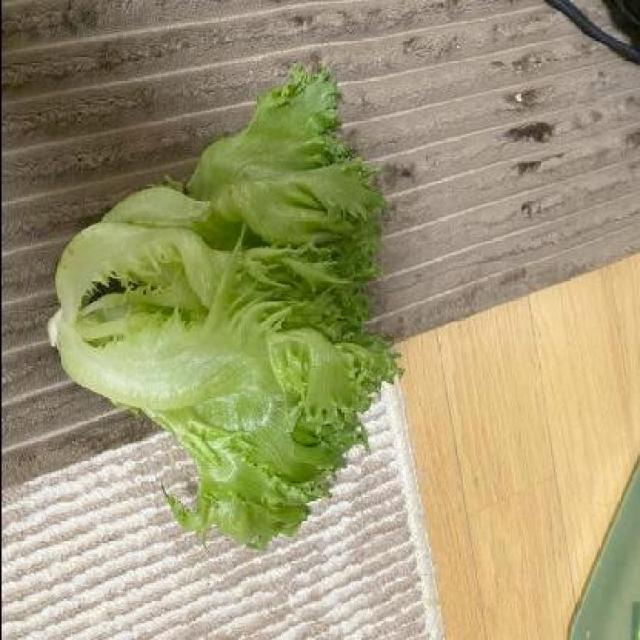Lettuce: (48, 58, 407, 557)
